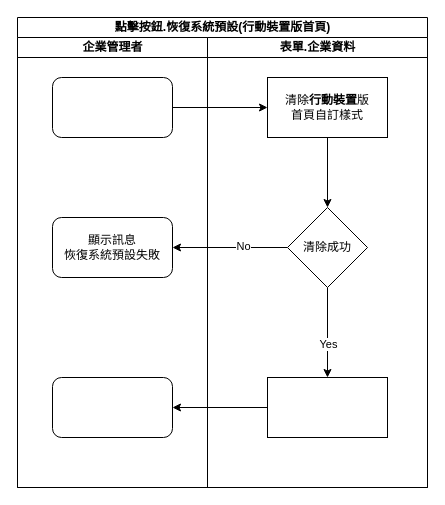
The diagram is 445 pixels wide and 505 high, and some of its shapes have lost their labels. The centre of each missing label's shape, as x and y in pixels:
按鈕除能: (327,407)
顯示訊息 恢復系統預設完成: (112,407)
點擊按鈕.恢復系統預設( 行動裝置 版首頁): (112,107)
